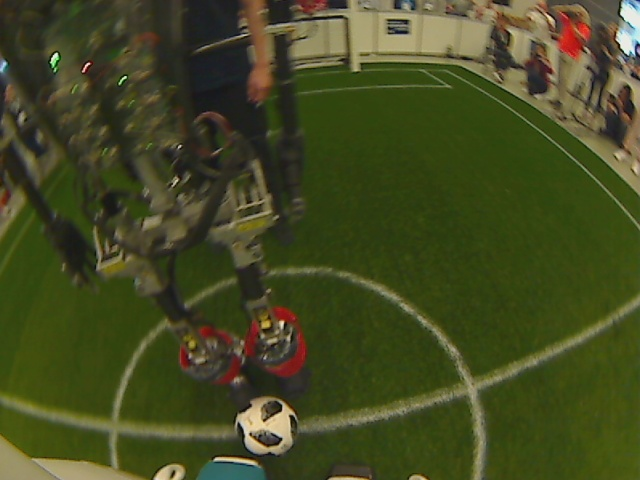ball: (231, 396, 301, 460)
goalpost: (335, 55, 373, 84)
robot: (222, 334, 319, 404)
